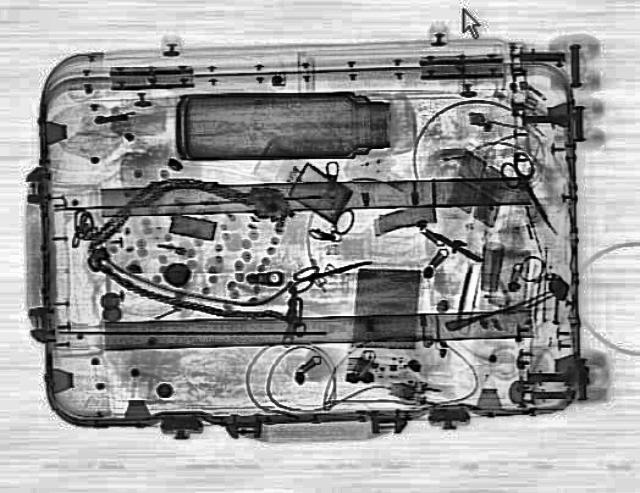Scissors: (488, 148, 574, 238), (278, 250, 374, 294)
